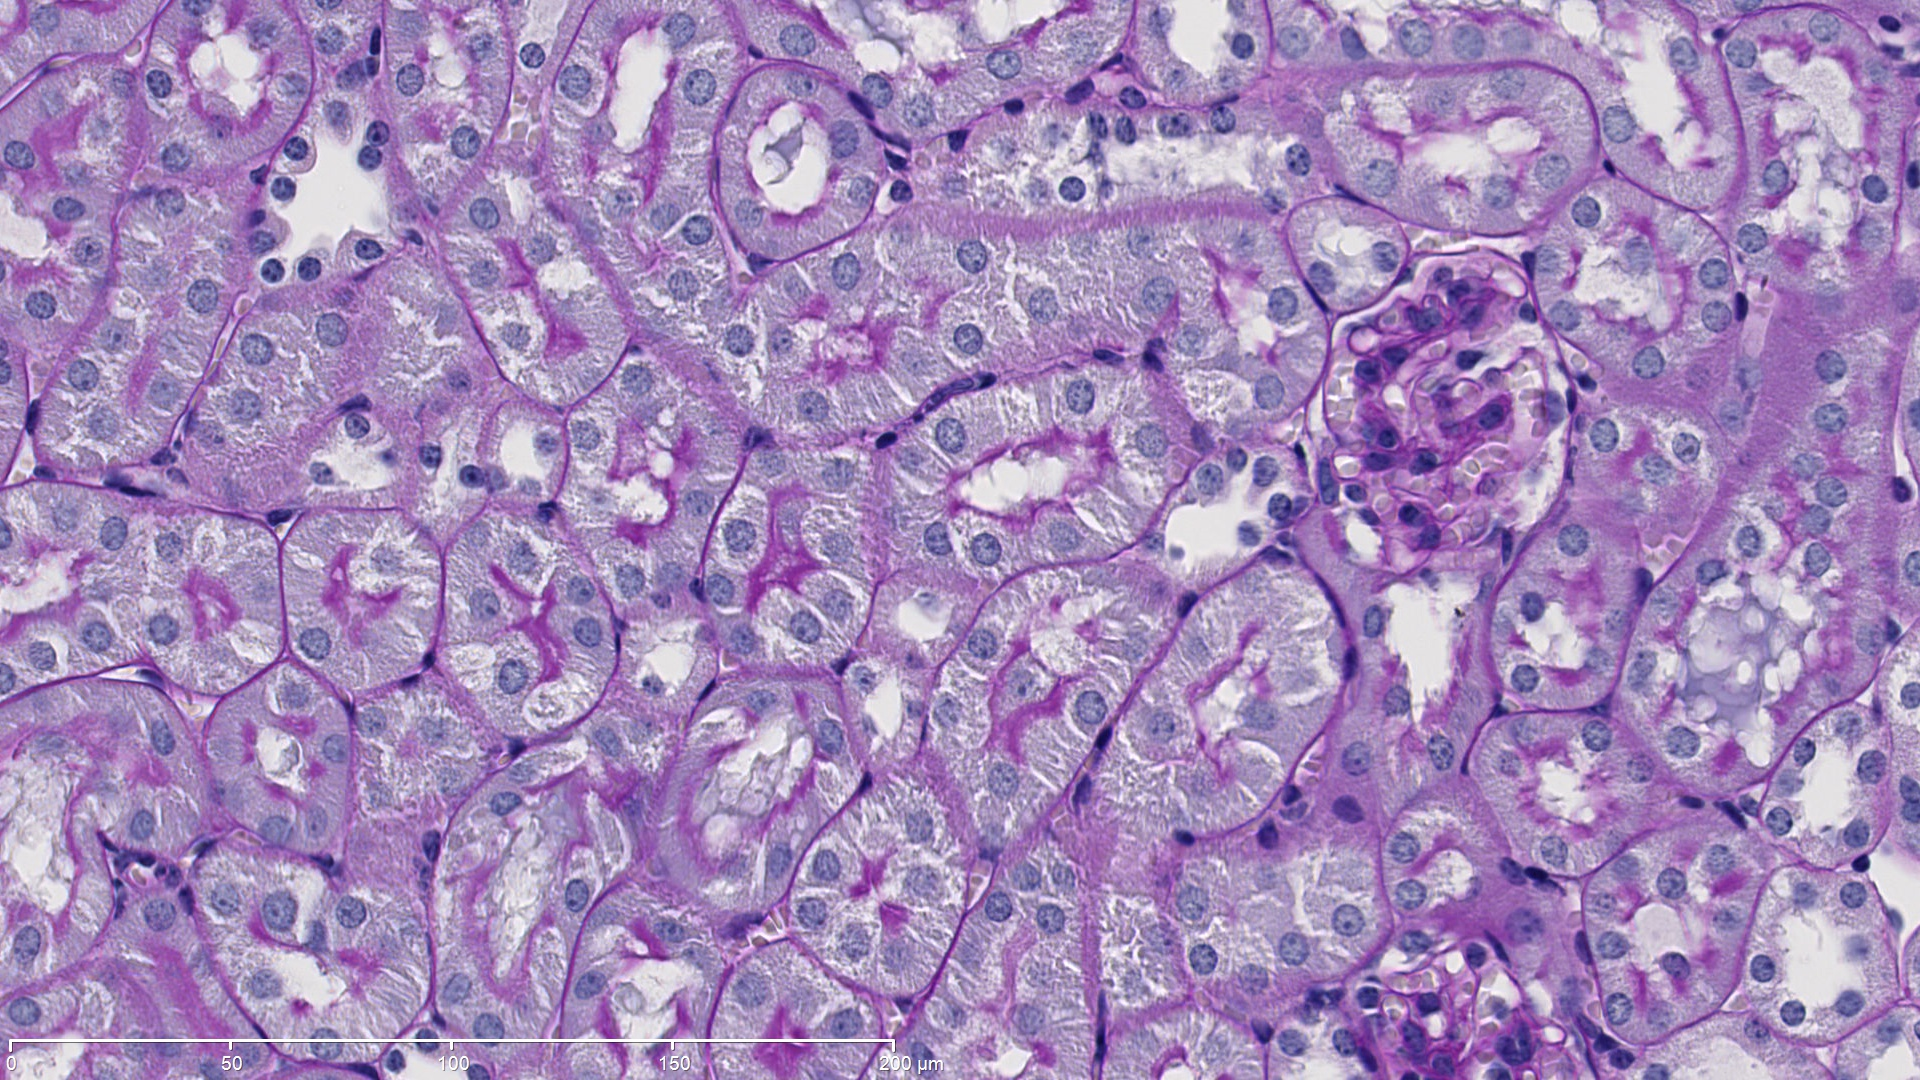Glomeruli: (1317, 243, 1582, 587)
